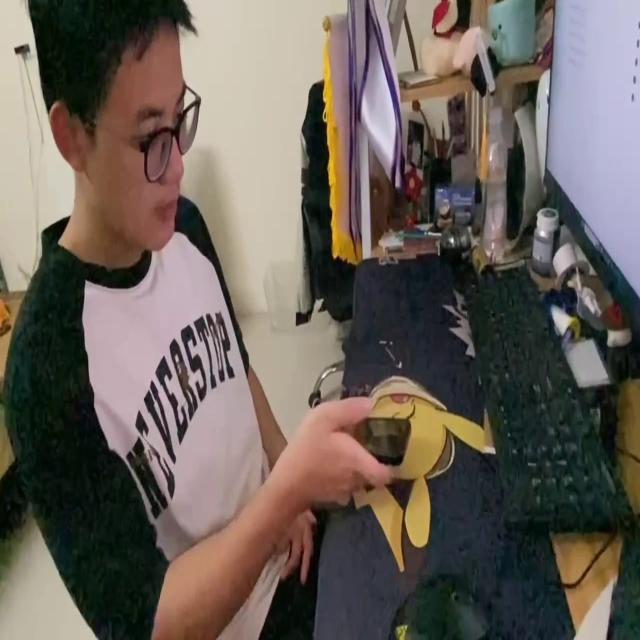laptop: (541, 0, 640, 338)
phone: (343, 403, 411, 468)
student: (4, 0, 402, 640)
